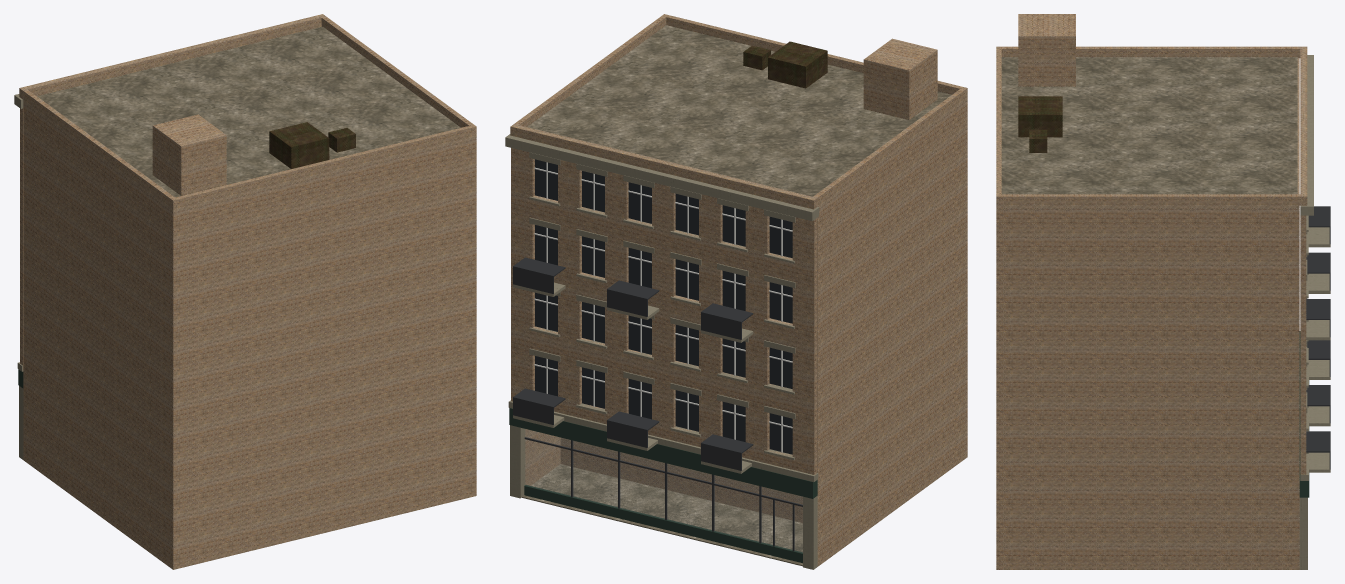
The model's file is bldg_apartments_5st.gltf.
The picture shows the model from 3 angles, left to right: view 1: azimuth 30°, elevation 25°; view 2: azimuth 150°, elevation 25°; view 3: azimuth 270°, elevation 25°; orthographic projection.
Visible parts, largest first — view 1: bldg_apartments_5st; view 2: bldg_apartments_5st; view 3: bldg_apartments_5st.
Part boxes in pixels (x1,y1,x2,y2): bldg_apartments_5st: [14, 14, 476, 569]; bldg_apartments_5st: [505, 14, 967, 569]; bldg_apartments_5st: [996, 14, 1330, 569].
Size of what is drawn, in the model's own units: 16.2 by 20.72 by 15.1.
9 materials, 4 textured.
